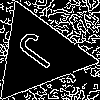J: (13, 29, 69, 77)
